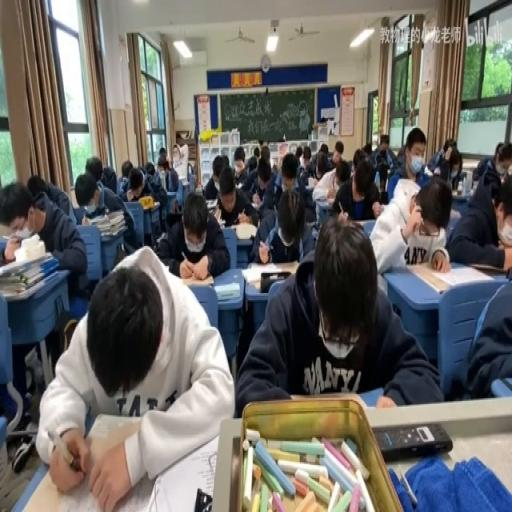calculator: (406, 262, 496, 293), (240, 260, 297, 286), (180, 270, 214, 286), (446, 209, 462, 242), (214, 282, 240, 300), (234, 222, 258, 240), (0, 228, 27, 243), (314, 196, 330, 220), (138, 195, 160, 209), (339, 216, 371, 225), (102, 208, 123, 220), (211, 205, 224, 222), (86, 213, 104, 225), (204, 196, 218, 208), (154, 232, 166, 243), (451, 186, 464, 196), (250, 199, 262, 209), (306, 219, 315, 225)
paper: (36, 243, 234, 508), (238, 216, 438, 415), (2, 176, 86, 309), (158, 188, 232, 278), (80, 169, 142, 259), (250, 185, 312, 267), (385, 128, 432, 201), (330, 155, 380, 222), (210, 165, 258, 228), (470, 140, 510, 186), (426, 140, 461, 186), (303, 148, 336, 188), (278, 154, 298, 194), (370, 134, 392, 166), (373, 160, 389, 204), (238, 146, 256, 178), (154, 146, 172, 178), (498, 186, 512, 225), (83, 156, 103, 182), (128, 168, 145, 198), (27, 175, 47, 200), (146, 170, 162, 194), (334, 164, 350, 186), (256, 166, 270, 190), (331, 141, 344, 165), (352, 146, 364, 168), (259, 145, 271, 165), (121, 159, 133, 178), (117, 176, 126, 194), (494, 141, 503, 158), (172, 145, 181, 161), (144, 161, 154, 175), (362, 142, 372, 155), (294, 144, 302, 160), (222, 154, 230, 170), (319, 144, 328, 155), (186, 162, 193, 175), (253, 145, 259, 158), (304, 151, 310, 162)
person: (373, 422, 452, 461), (193, 488, 212, 509)
